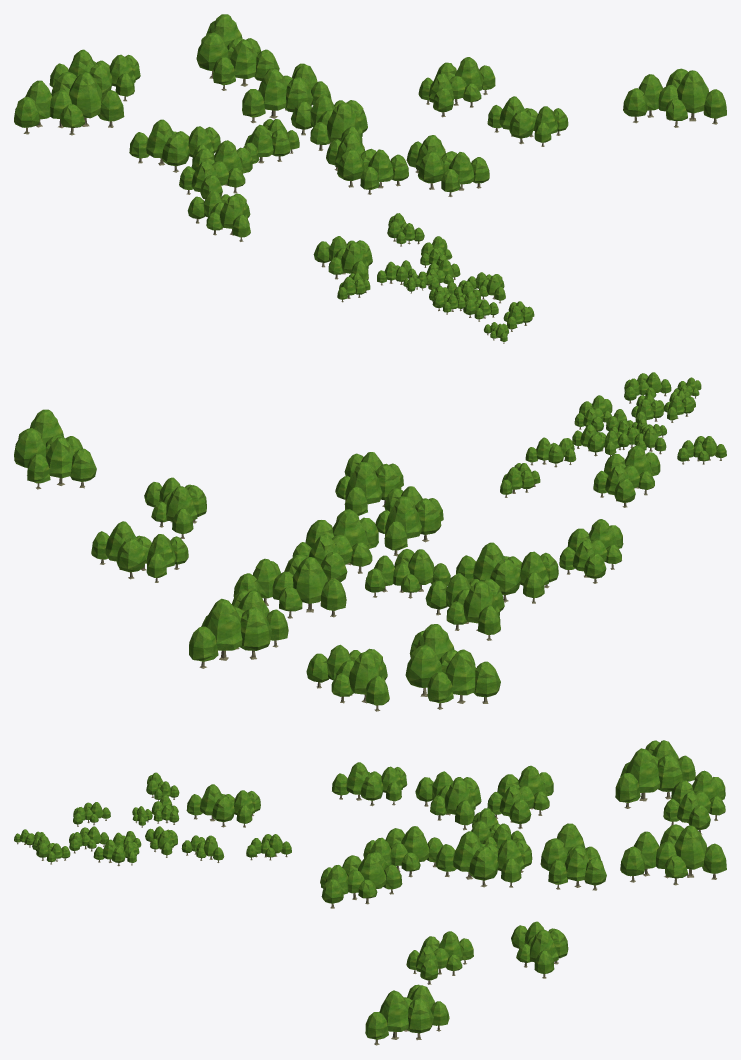
Rendered from konohavill_Tree_Distance_A6.fbx.
3 views of the same model, one above another, from view 1: azimuth 30°, elevation 25°; view 2: azimuth 150°, elevation 25°; view 3: azimuth 270°, elevation 25° (orthographic). The views are drawn at different scales.
Parts seen in each view (by area): view 1: MERGED_SM_ENV_KNVLLG_Tree_Distance_A6.mo; view 2: MERGED_SM_ENV_KNVLLG_Tree_Distance_A6.mo; view 3: MERGED_SM_ENV_KNVLLG_Tree_Distance_A6.mo.
Boxes of the visible parts, box(x1,y1,x2,y2) form: MERGED_SM_ENV_KNVLLG_Tree_Distance_A6.mo: box(14, 14, 726, 343); MERGED_SM_ENV_KNVLLG_Tree_Distance_A6.mo: box(14, 372, 726, 711); MERGED_SM_ENV_KNVLLG_Tree_Distance_A6.mo: box(14, 740, 726, 1045).
Bounding box in the file's own units: 51876 × 6053 × 59173.
